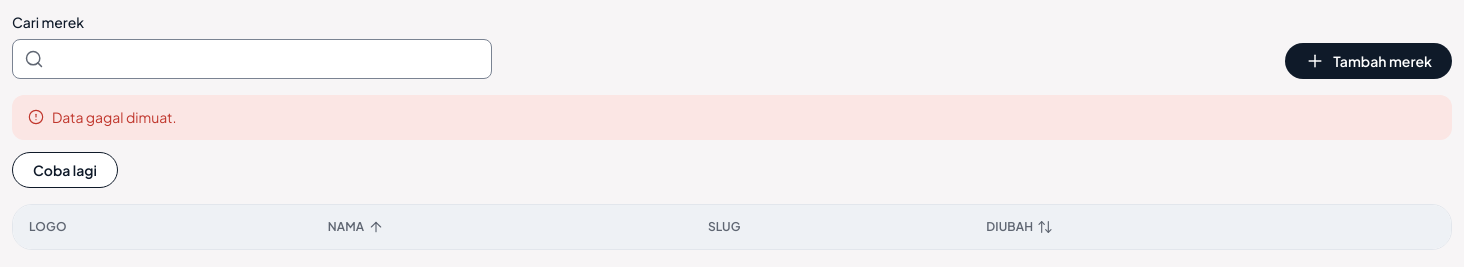
BrandsPage list › shows an error with a retry
Click the button "Coba lagi" at (65, 170), box [12,152,118,188]
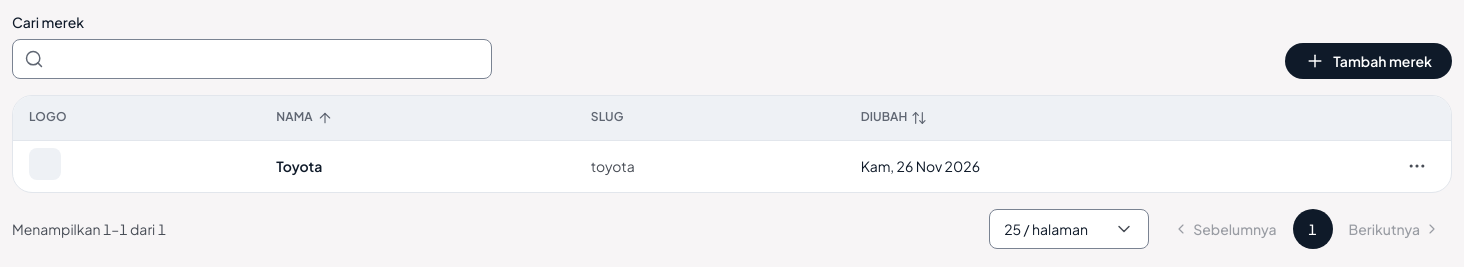
Check: the text "Toyota" is shown, box [276,157,322,175]
